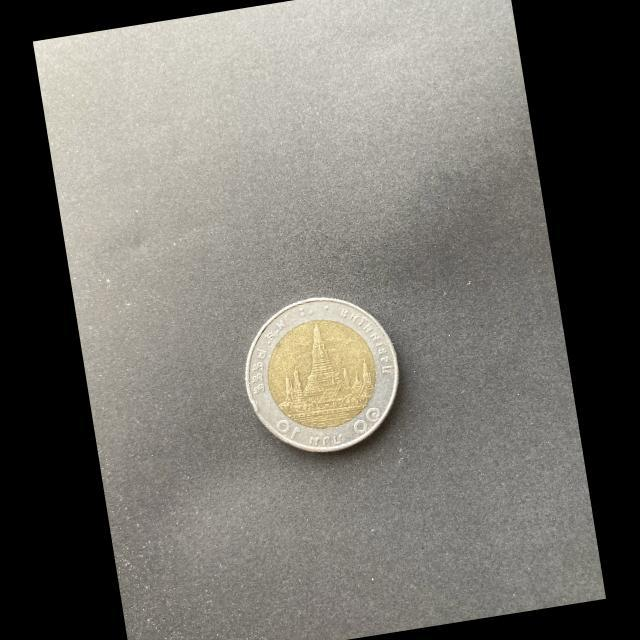10 Bath: (246, 296, 404, 460)
